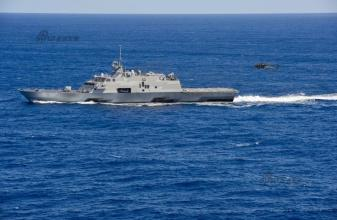airplane: (253, 58, 281, 72)
warship: (15, 47, 237, 109)
